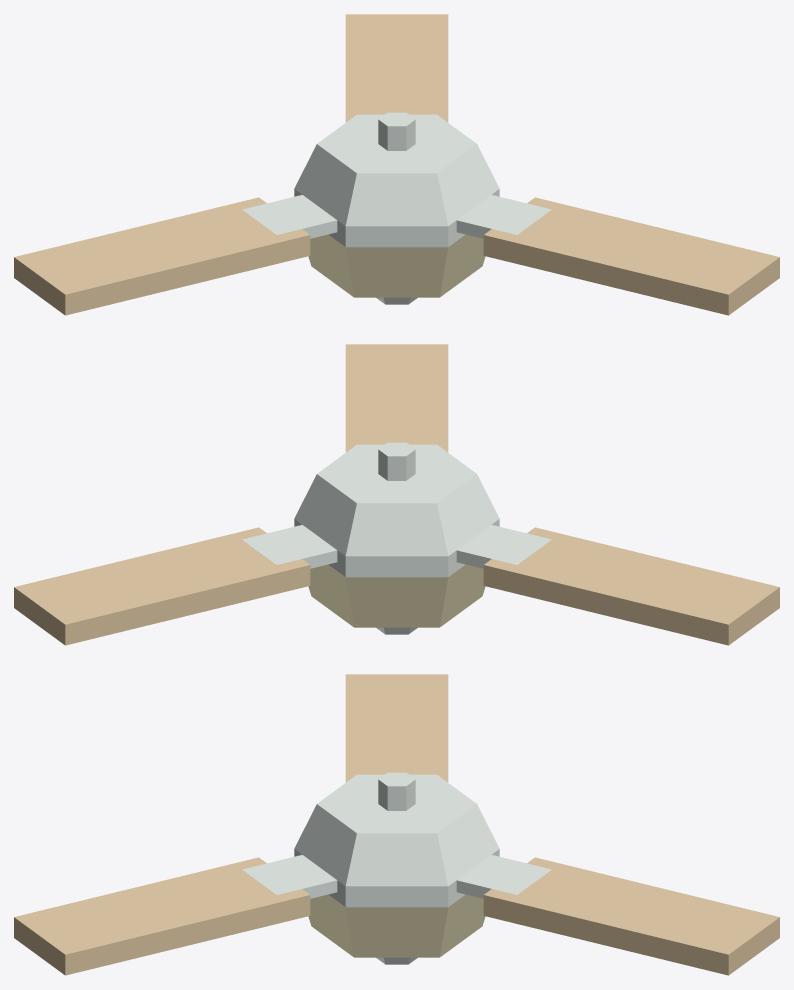
File: ceilingFan.glb
3 renders of one model, top to bottom at view 1: azimuth 30°, elevation 25°; view 2: azimuth 150°, elevation 25°; view 3: azimuth 270°, elevation 25°, orthographic.
Parts seen in each view (by area): view 1: ceilingFan; view 2: ceilingFan; view 3: ceilingFan.
Boxes of the visible parts, box(x1,y1,x2,y2) form: ceilingFan: box(14, 14, 779, 315); ceilingFan: box(14, 344, 779, 645); ceilingFan: box(14, 674, 779, 975).
Size of the model in its own units: 4.55 by 1.34 by 5.25.
